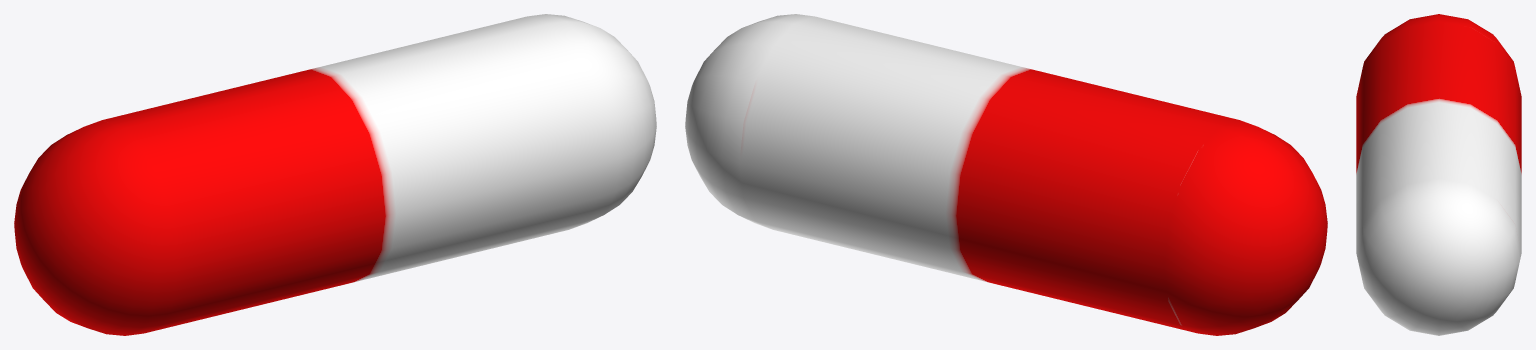
File: Pill.glb
3 renders of one model, left to right at view 1: azimuth 30°, elevation 25°; view 2: azimuth 150°, elevation 25°; view 3: azimuth 270°, elevation 25°, orthographic. The views are drawn at different scales.
Visible parts, largest first — view 1: Sphere; view 2: Sphere; view 3: Sphere.
Part boxes in pixels (box(x1,y1,x2,y2)): Sphere: box(14, 14, 656, 335); Sphere: box(685, 14, 1327, 335); Sphere: box(1356, 14, 1521, 335).
Size of the model in its own units: 0.0224 by 0.00689 by 0.00689.
Materials: 1 (1 with a texture image).
